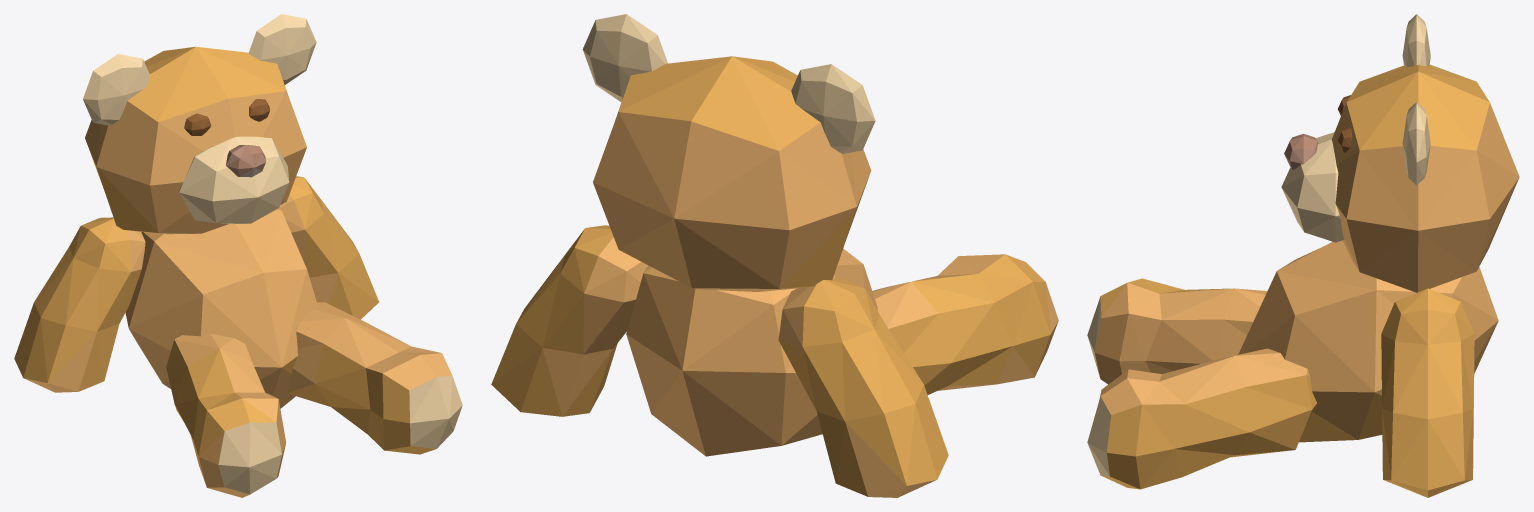
File: gris_teddy.glb
3 views of the same model, side by side, from view 1: azimuth 30°, elevation 25°; view 2: azimuth 150°, elevation 25°; view 3: azimuth 270°, elevation 25° (orthographic). The views are drawn at different scales.
Visible parts, largest first — view 1: Bear0, Bear1, Bear2, Bear3, Bear4; view 2: Bear0, Bear1, Bear2; view 3: Bear0, Bear1, Bear2, Bear4.
Part boxes in pixels (x1,y1,x2,y2): Bear0: (24,91,452,497); Bear1: (14,46,435,469); Bear2: (83,14,462,494); Bear3: (184,99,269,135); Bear4: (226,145,265,176); Bear0: (543,103,1058,497); Bear1: (491,56,1050,496); Bear2: (582,14,875,153); Bear0: (1095,102,1519,439); Bear1: (1100,64,1489,497); Bear2: (1087,14,1430,476); Bear4: (1284,136,1318,169).
Size of the model in its own units: 0.4804 by 0.4578 by 0.4712.
